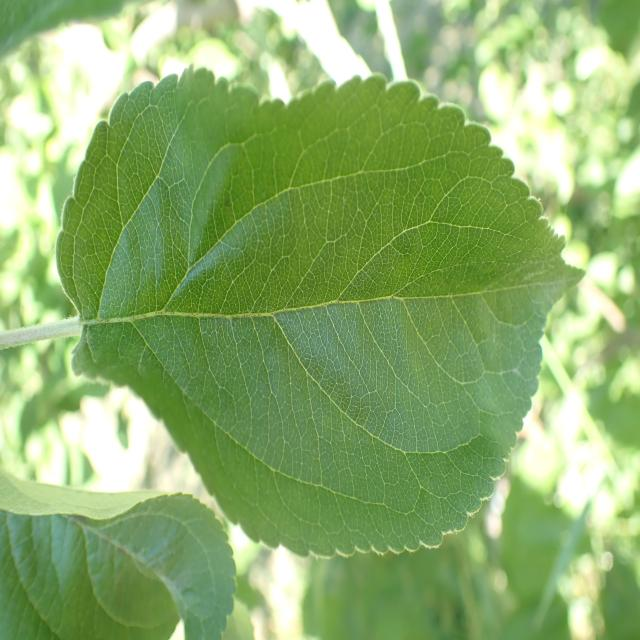healthy: (57, 65, 584, 558), (1, 470, 238, 640)
